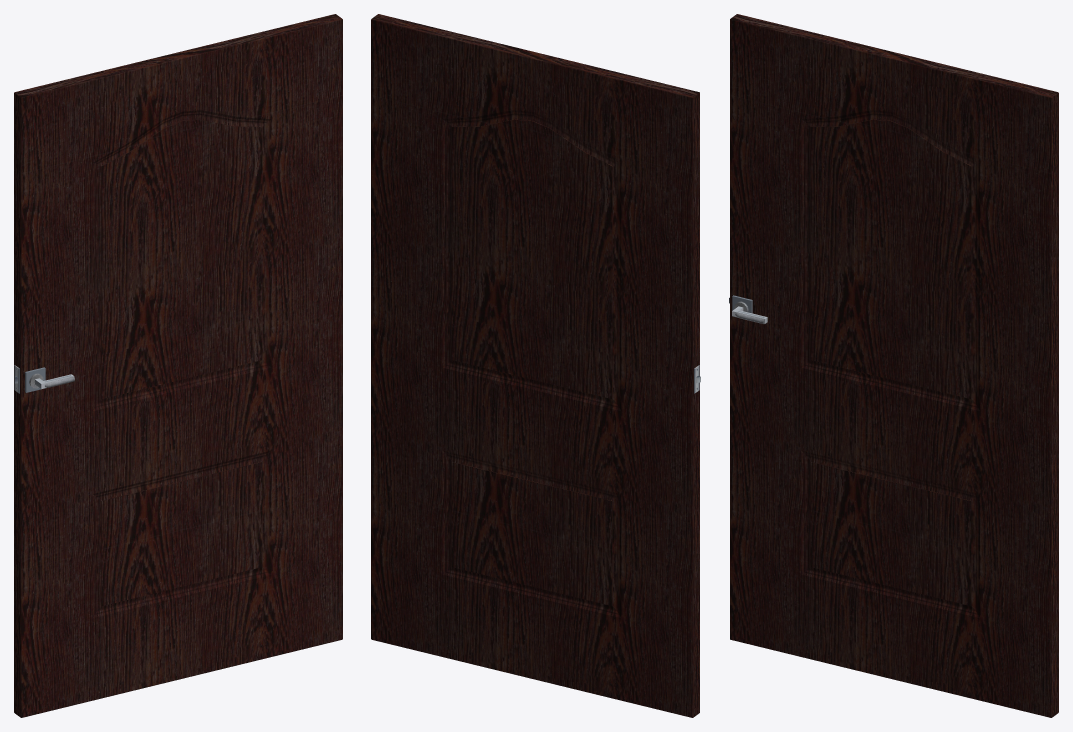
Rendered from Assessment2.fbx.
3 renders of one model, left to right at view 1: azimuth 30°, elevation 25°; view 2: azimuth 150°, elevation 25°; view 3: azimuth 330°, elevation 25°, orthographic.
Visible parts, largest first — view 1: Door; view 2: Door; view 3: Door.
Boxes of the visible parts, x1,y1,x2,y2 form: Door: (14, 14, 342, 717); Door: (371, 14, 699, 717); Door: (730, 14, 1058, 717).
Size of the model in its own units: 1.35 by 2.46 by 0.1259.
Materials: 3 (3 with a texture image).
